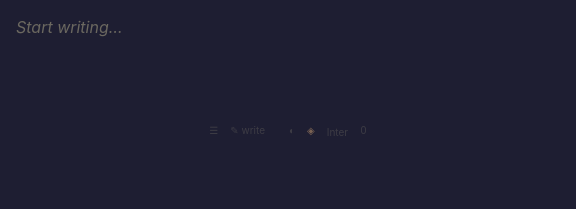
Page › switches to conversation mode on toggle click
This screenshot has width=576, height=209.
Click the button with test id "mode-toggle" at (248, 130), box 230,122 -> 265,138
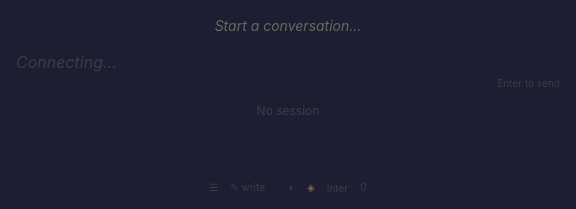
Expected: the text "Start a conversation…" is shown, 215,16 -> 361,36
